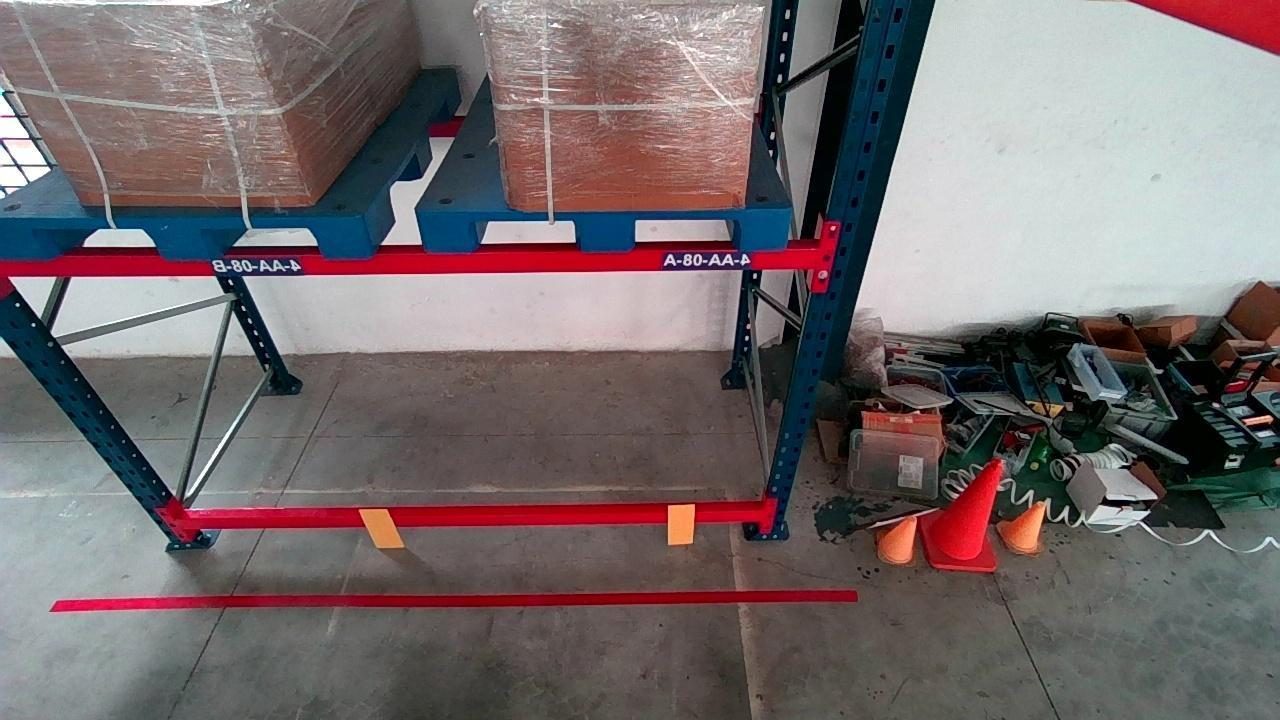h_rack: (13, 239, 820, 282), (182, 505, 764, 534)
orange_strip: (359, 507, 402, 549), (666, 502, 698, 545)
red_line: (51, 588, 858, 608)
small_pallet: (4, 213, 367, 261), (426, 208, 791, 250)
